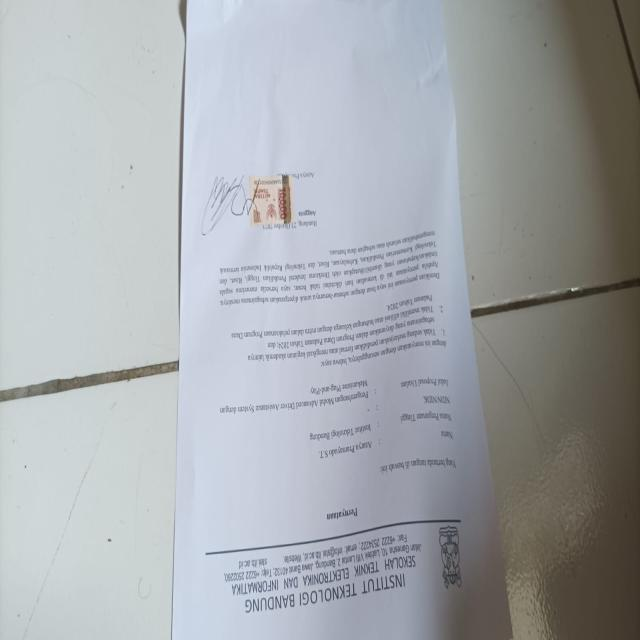Organik: (170, 1, 517, 640)
